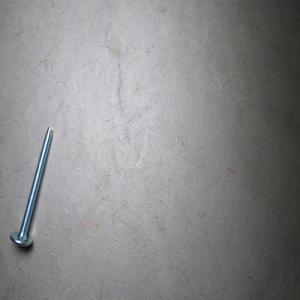Bolt: (9, 125, 53, 247)
